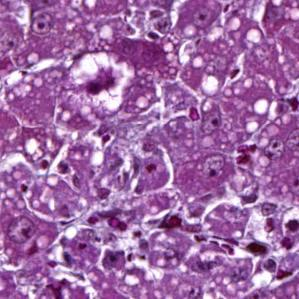ballooning: (66, 48, 138, 119)
